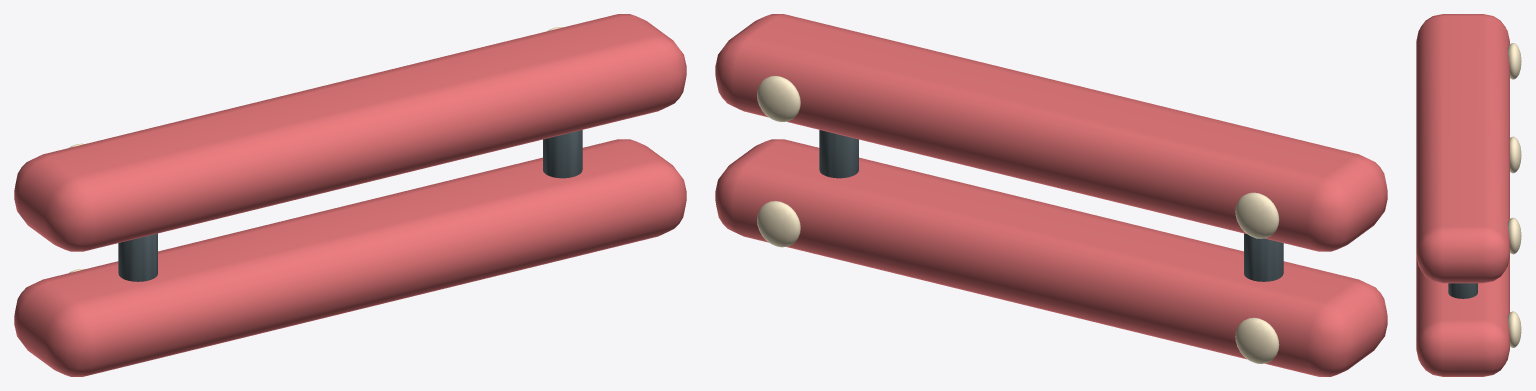
The model's file is tatu_bumper_double_mobile.glb.
The picture shows the model from 3 angles, left to right: view 1: azimuth 30°, elevation 25°; view 2: azimuth 150°, elevation 25°; view 3: azimuth 270°, elevation 25°; orthographic projection. The views are drawn at different scales.
Visible parts, largest first — view 1: Bumper; view 2: Bumper; view 3: Bumper.
Part boxes in pixels (<box>): Bumper: <box>14,14,686,376</box>; Bumper: <box>715,14,1387,376</box>; Bumper: <box>1416,14,1521,376</box>.
Size of the model in its own units: 1.65 by 0.49 by 0.315.
